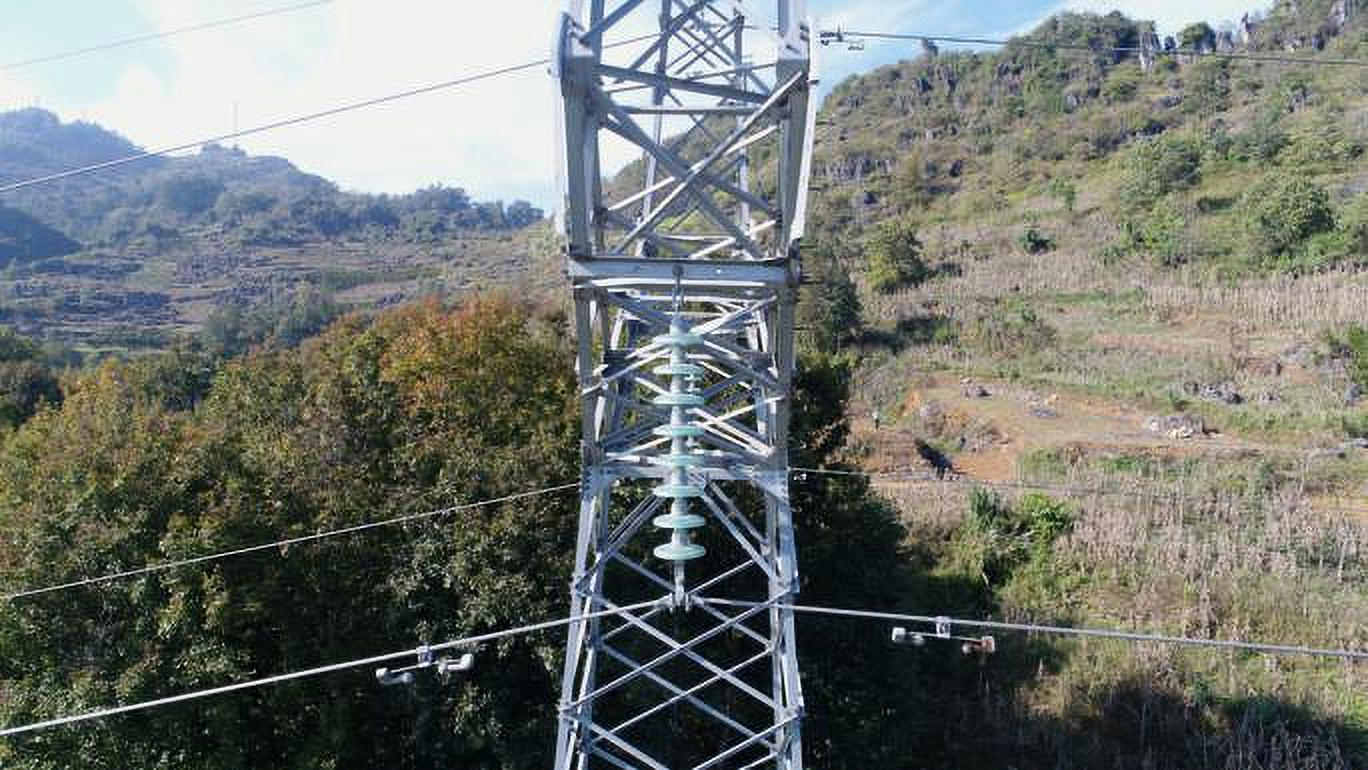insulator: (646, 328, 709, 564)
